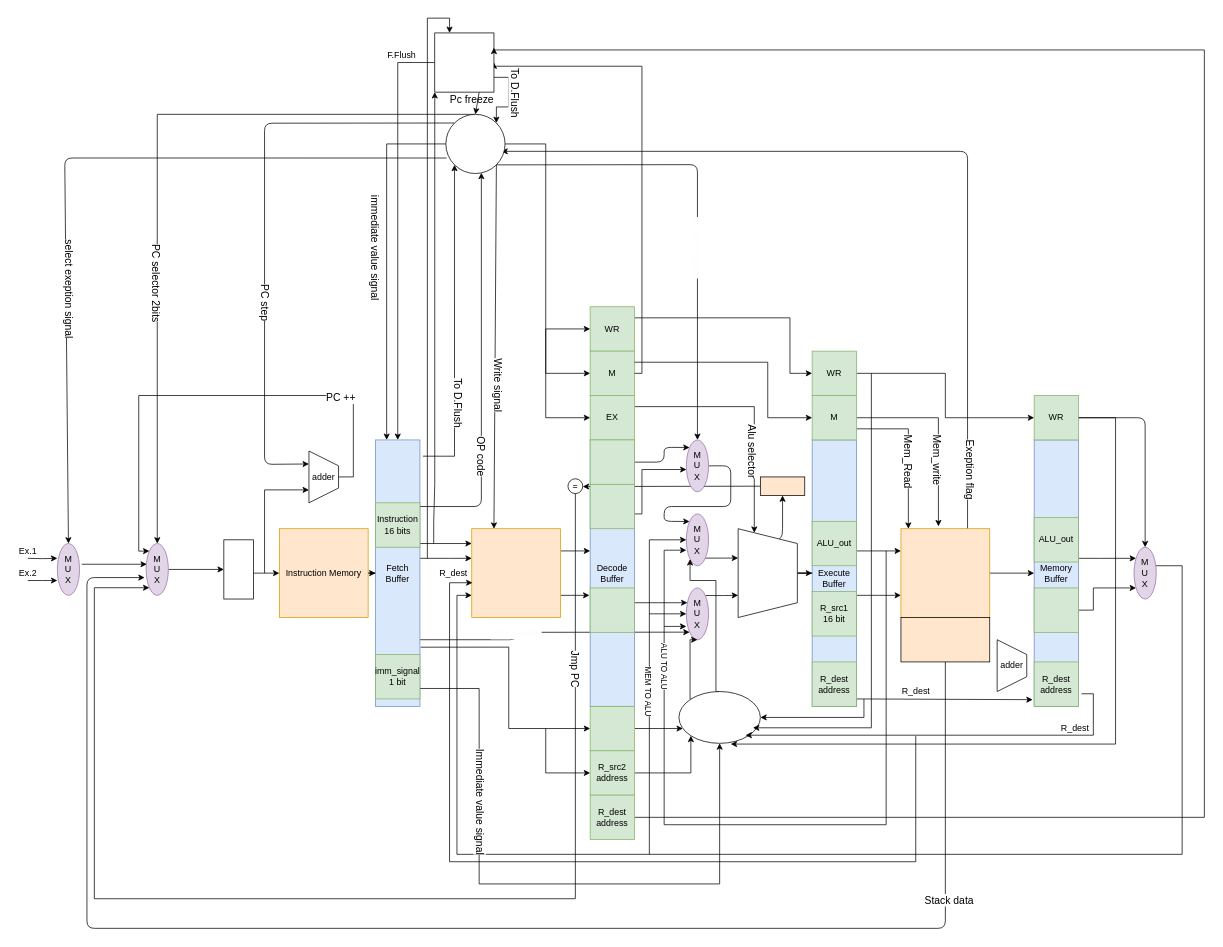
Some shapes in this 1223 by 947 pixel diagram are drawn without their labels. Here are the shapes that lost their labels. From the top down, the centre of each, then its label:
At (x=464, y=62): "hazard detection".
At (x=475, y=144): "control unit".
At (x=612, y=461): "IN Port".
At (x=782, y=485): "Flages".
At (x=612, y=506): "R_src1 16 bits".
At (x=238, y=569): "PC".
At (x=516, y=573): "Register File".
At (x=767, y=573): "ALU".
At (x=945, y=573): "Memory".
At (x=612, y=609): "R_src2 16 bits".
At (x=1056, y=609): "MEM_out".
At (x=945, y=639): "Stack".
At (x=612, y=728): "R_src1 address".
At (x=719, y=717): "Forwarding Unit".
